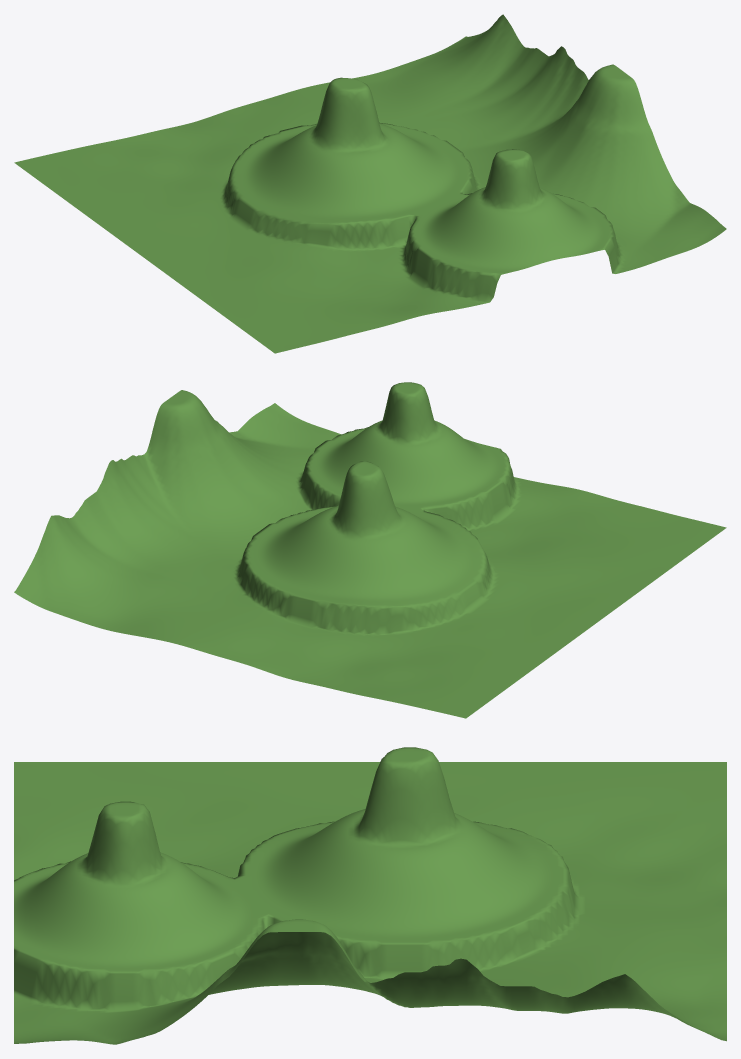
Rendered from SM_Terrain_00_03.fbx.
The picture shows the model from 3 angles, top to bottom: view 1: azimuth 30°, elevation 25°; view 2: azimuth 150°, elevation 25°; view 3: azimuth 270°, elevation 25°; orthographic projection. The views are drawn at different scales.
Parts seen in each view (by area): view 1: SM_Terrain_00_03; view 2: SM_Terrain_00_03; view 3: SM_Terrain_00_03.
Part boxes in pixels (box(x1,y1,x2,y2)): SM_Terrain_00_03: box(14, 14, 726, 353); SM_Terrain_00_03: box(14, 382, 726, 718); SM_Terrain_00_03: box(14, 747, 726, 1044).
Bounding box in the file's own units: 384 × 93.67 × 384.
